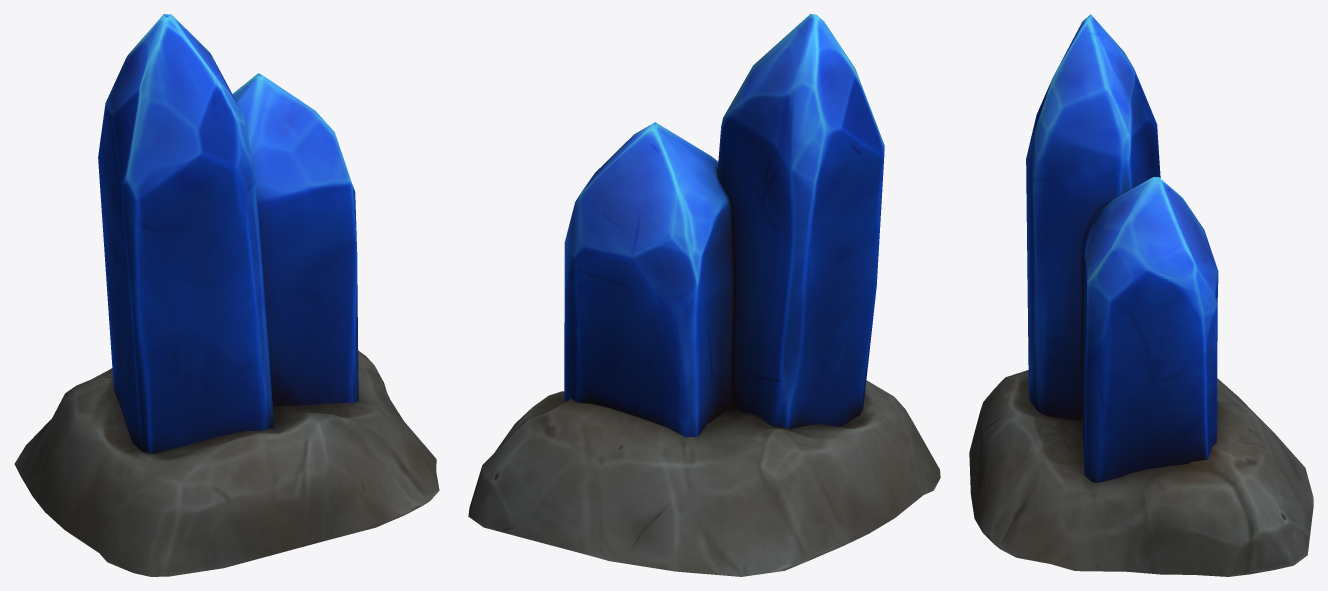
Rendered from SM_Gem_Sapphire_008.fbx.
3 renders of one model, left to right at view 1: azimuth 30°, elevation 25°; view 2: azimuth 150°, elevation 25°; view 3: azimuth 270°, elevation 25°, orthographic. The views are drawn at different scales.
Parts seen in each view (by area): view 1: SM_Gem_Sapphire_008; view 2: SM_Gem_Sapphire_008; view 3: SM_Gem_Sapphire_008.
Part boxes in pixels (bbox=[...]): SM_Gem_Sapphire_008: bbox=[14, 14, 439, 576]; SM_Gem_Sapphire_008: bbox=[468, 14, 940, 576]; SM_Gem_Sapphire_008: bbox=[969, 14, 1313, 576].
Bounding box in the file's own units: 49.26 × 64.91 × 45.53.
